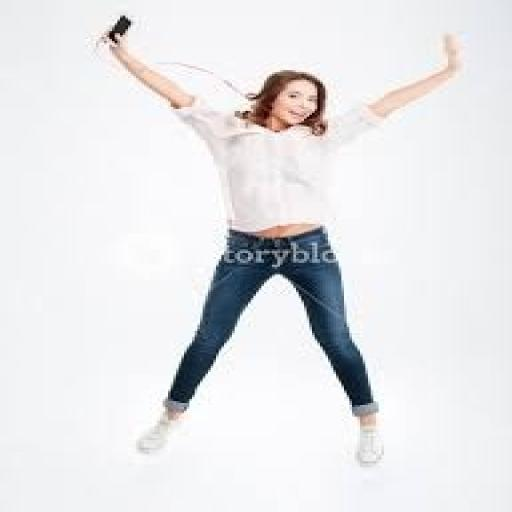listening_to_music: (99, 22, 469, 470)
